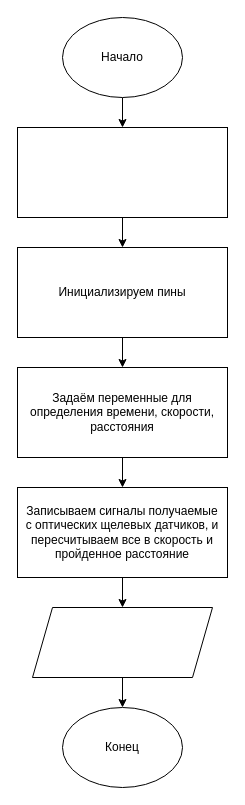
Image size: 245x805. Some labels were removed from this diagram. Here are the shapes that lost their labels. From the top down, the centre of each, then its label:
the point at 122,172: Определяем подключение пинов к МК
the point at 122,642: Вывод данных с щелевых датчиков 4 оптических щелевых датчиков
